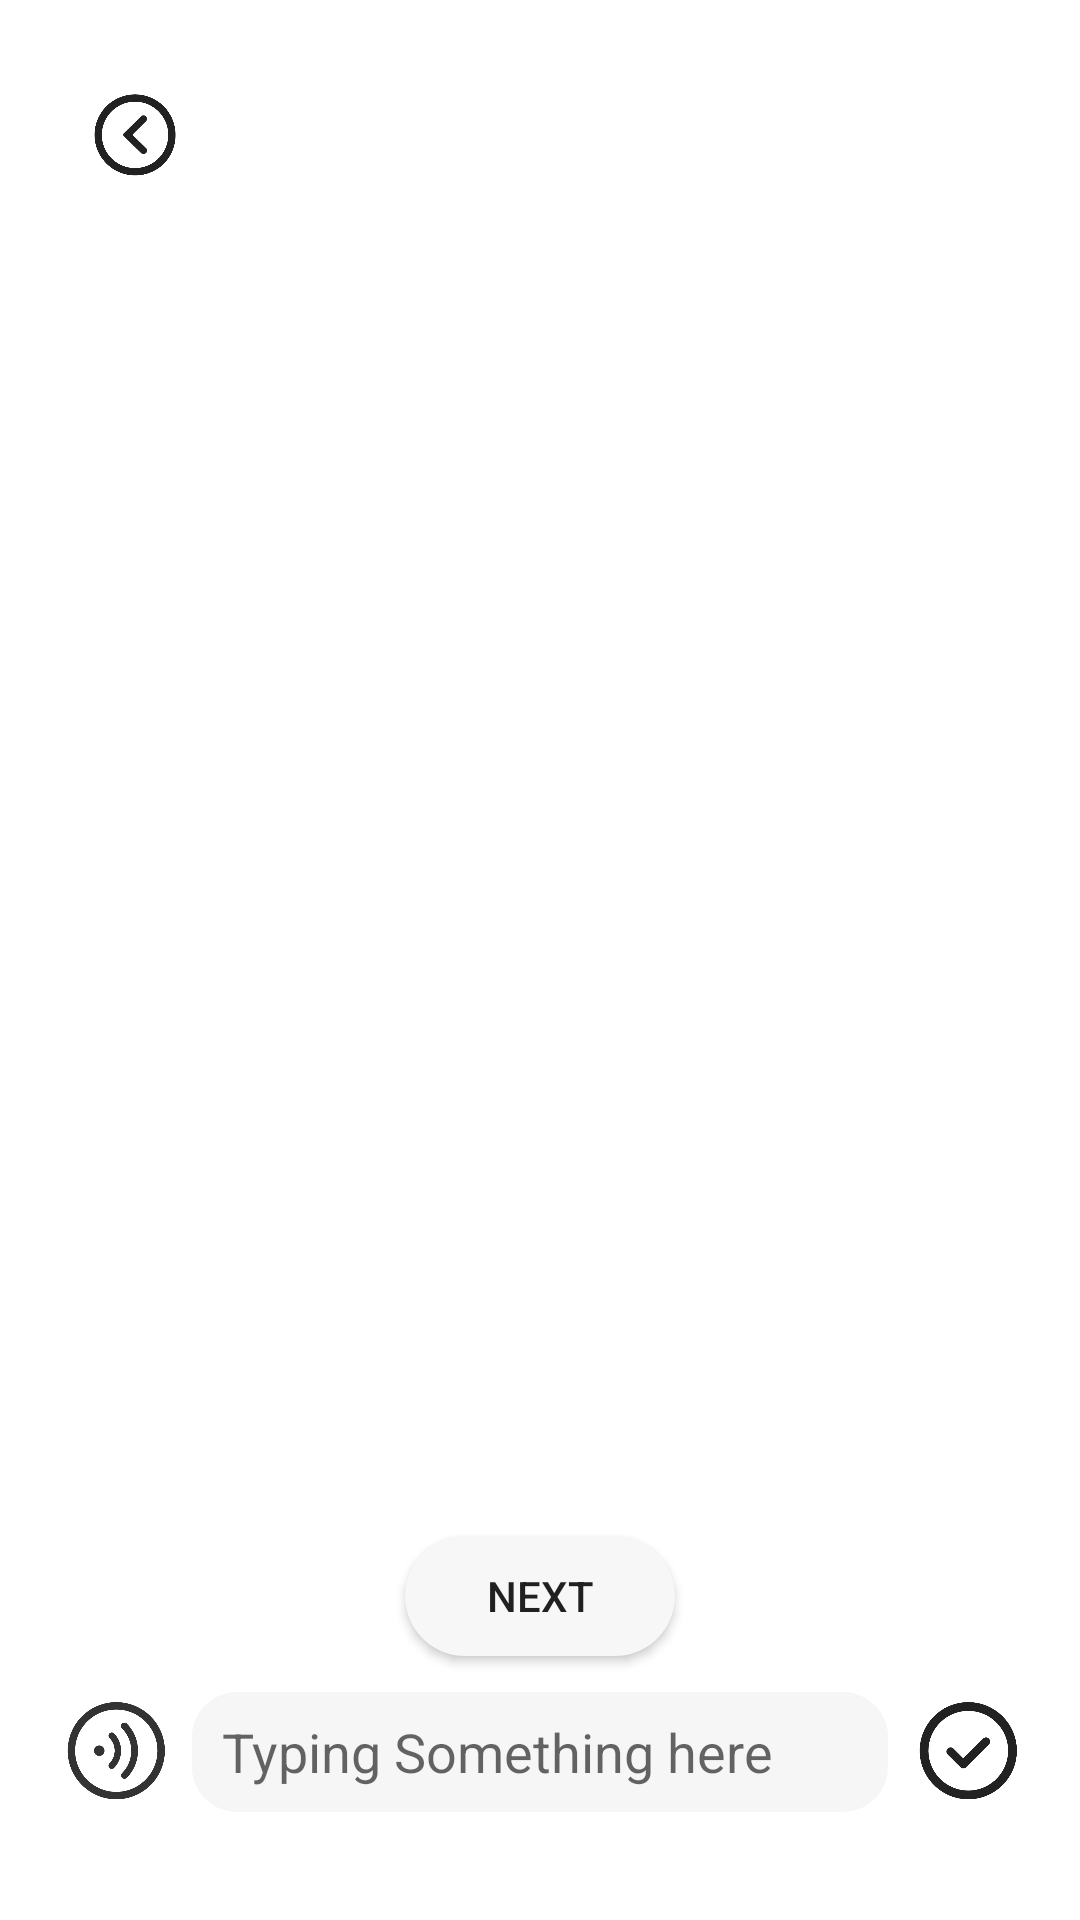

Named icons in this screenshot (1080px x 1920px) and their bounding boxes, [x1, y1, x2, y2]:
fanhui: [94, 94, 176, 176]
